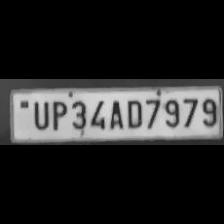3: (67, 98, 87, 130)
4: (88, 96, 106, 130)
7: (142, 96, 160, 130), (180, 95, 198, 129)
9: (160, 96, 180, 130), (198, 95, 218, 129)
A: (106, 98, 124, 130)
D: (123, 97, 143, 129)
P: (49, 99, 67, 131)
U: (29, 99, 49, 131)
